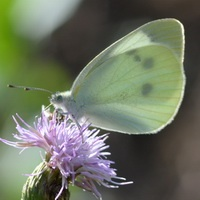insect: (51, 18, 184, 133)
